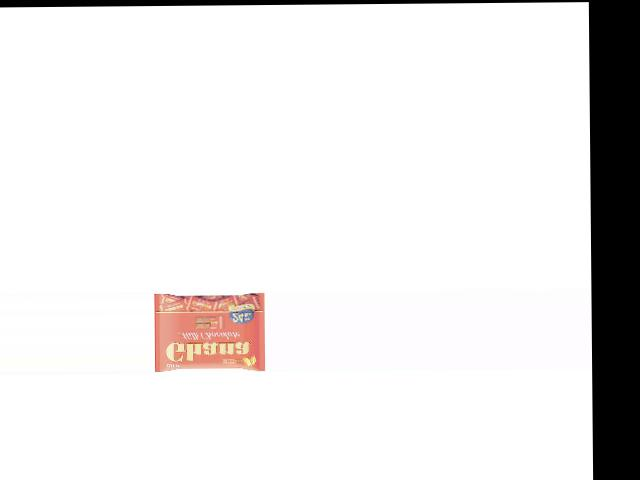chocolate: (156, 290, 266, 370)
